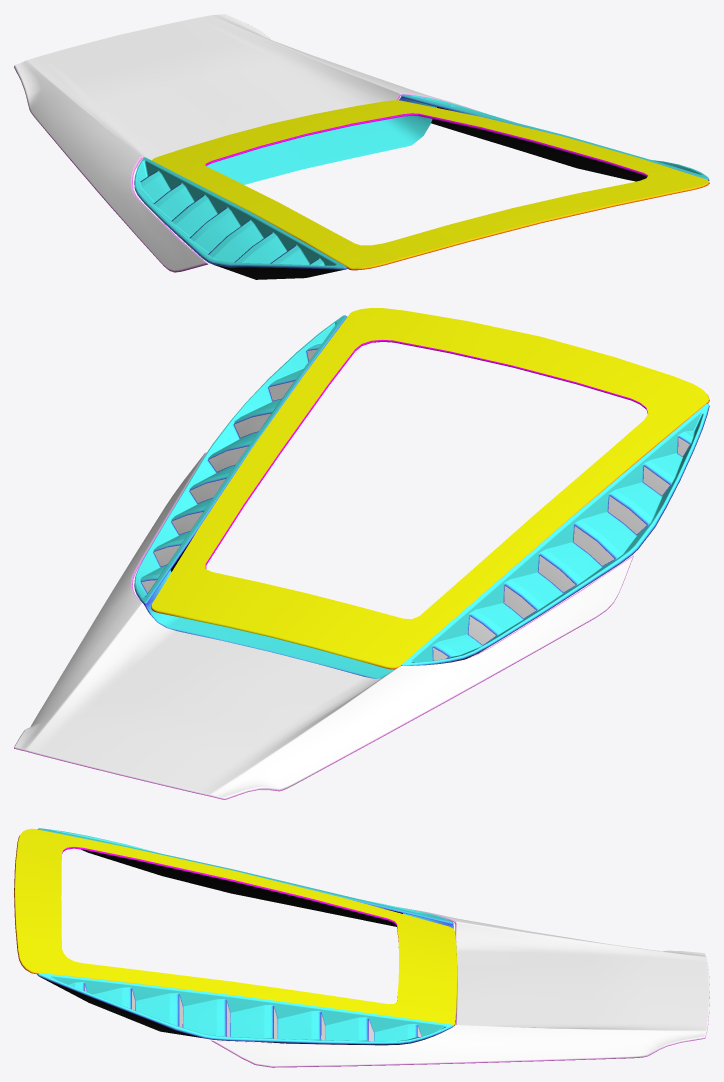
The model's file is Car_Ford_GT_2017_Boot_SetA.fbx.
3 renders of one model, top to bottom at view 1: azimuth 30°, elevation 25°; view 2: azimuth 150°, elevation 25°; view 3: azimuth 270°, elevation 25°, orthographic. The views are drawn at different scales.
Visible parts, largest first — view 1: Boot 6; view 2: Boot 6; view 3: Boot 6.
Part boxes in pixels (<box>): Boot 6: <box>14,14,709,279</box>; Boot 6: <box>14,308,709,799</box>; Boot 6: <box>14,828,709,1067</box>.
Size of the model in its own units: 0.8175 by 0.2519 by 1.37.
